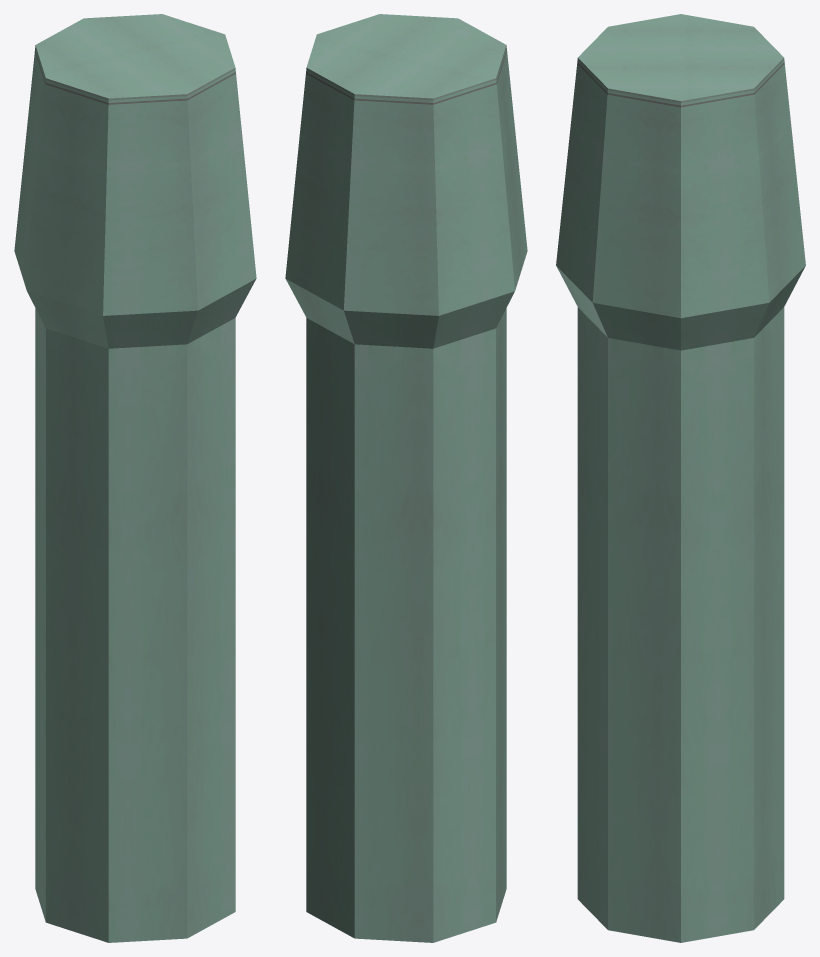
The model's file is water-tower-40x9-cbj_LOD03.gltf.
3 renders of one model, left to right at view 1: azimuth 30°, elevation 25°; view 2: azimuth 150°, elevation 25°; view 3: azimuth 270°, elevation 25°, orthographic.
Visible parts, largest first — view 1: Cylinder03; view 2: Cylinder03; view 3: Cylinder03.
Part boxes in pixels (x1,y1,x2,y2): Cylinder03: [14, 14, 256, 942]; Cylinder03: [285, 14, 527, 942]; Cylinder03: [556, 14, 805, 942].
Size of the model in its own units: 10.9 by 40.5 by 10.9.
